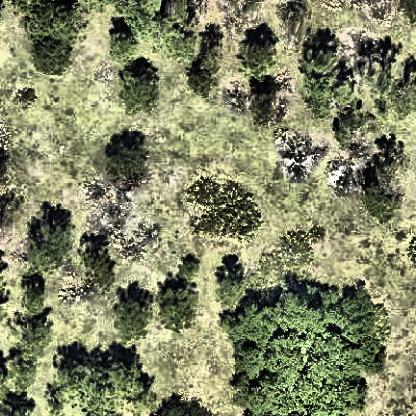tree-top: (218, 286, 388, 416), (46, 346, 155, 416), (136, 1, 202, 62), (26, 207, 74, 272), (103, 144, 153, 188), (14, 312, 61, 358), (157, 284, 198, 335), (119, 66, 158, 114), (359, 180, 402, 223), (81, 247, 119, 293), (114, 298, 150, 344), (29, 36, 71, 75), (28, 3, 73, 39), (302, 40, 341, 80), (213, 269, 250, 309), (107, 24, 141, 65), (304, 83, 338, 122), (243, 45, 275, 82), (6, 357, 40, 390), (387, 80, 416, 115), (185, 67, 214, 95), (21, 287, 50, 314), (179, 258, 209, 281)
